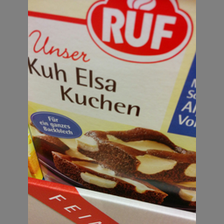cake: (28, 2, 195, 212)
